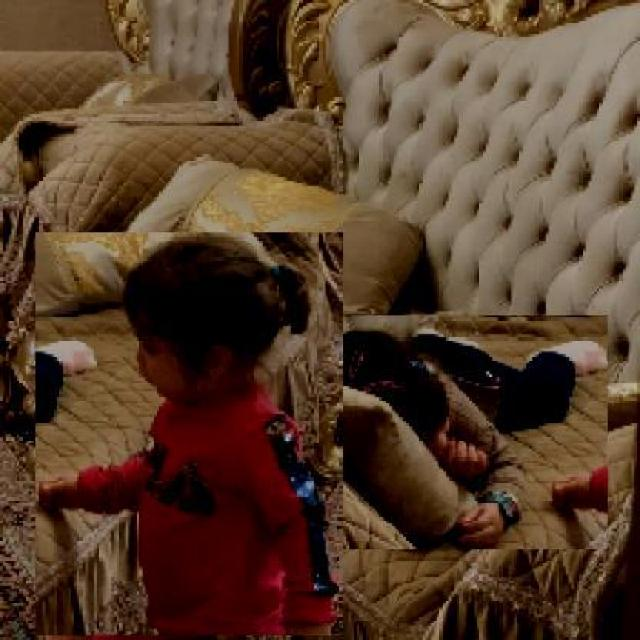child: (34, 232, 343, 637), (282, 315, 608, 551)
